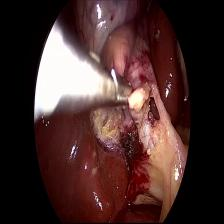Grasper: (35, 14, 136, 121)
